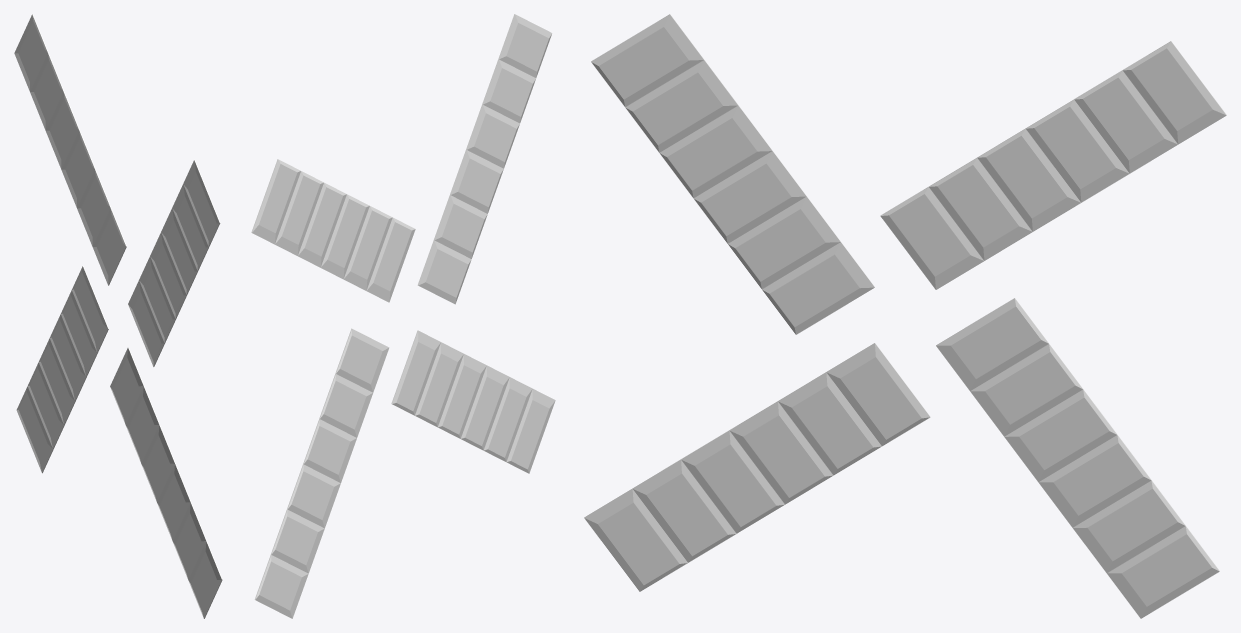
Rendered from roatamorii.obj.
The picture shows the model from 3 angles, left to right: view 1: azimuth 30°, elevation 25°; view 2: azimuth 150°, elevation 25°; view 3: azimuth 270°, elevation 25°; orthographic projection. The views are drawn at different scales.
Visible parts, largest first — view 1: Windmill; view 2: Windmill; view 3: Windmill.
Part boxes in pixels (x1,y1,x2,y2): Windmill: [14, 14, 222, 618]; Windmill: [251, 14, 555, 618]; Windmill: [584, 14, 1226, 618].
Size of the model in its own units: 2.16 by 21.98 by 21.88.
1 material, 1 textured.
